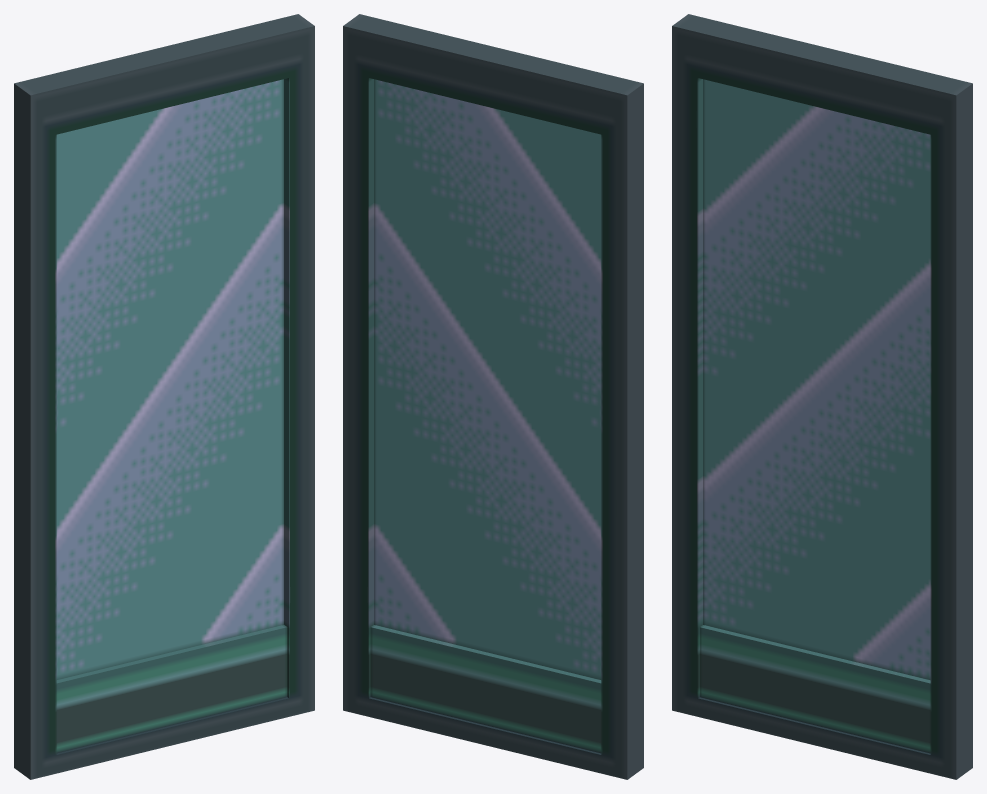
The model's file is Slide_Door.fbx.
3 renders of one model, left to right at view 1: azimuth 30°, elevation 25°; view 2: azimuth 150°, elevation 25°; view 3: azimuth 330°, elevation 25°, orthographic.
Visible parts, largest first — view 1: Slide_Door.L; view 2: Slide_Door.L; view 3: Slide_Door.L.
Boxes of the visible parts, x1,y1,x2,y2 form: Slide_Door.L: [14, 14, 314, 779]; Slide_Door.L: [343, 14, 643, 779]; Slide_Door.L: [672, 14, 972, 779].
Bounding box in the file's own units: 100 × 230 × 10.
